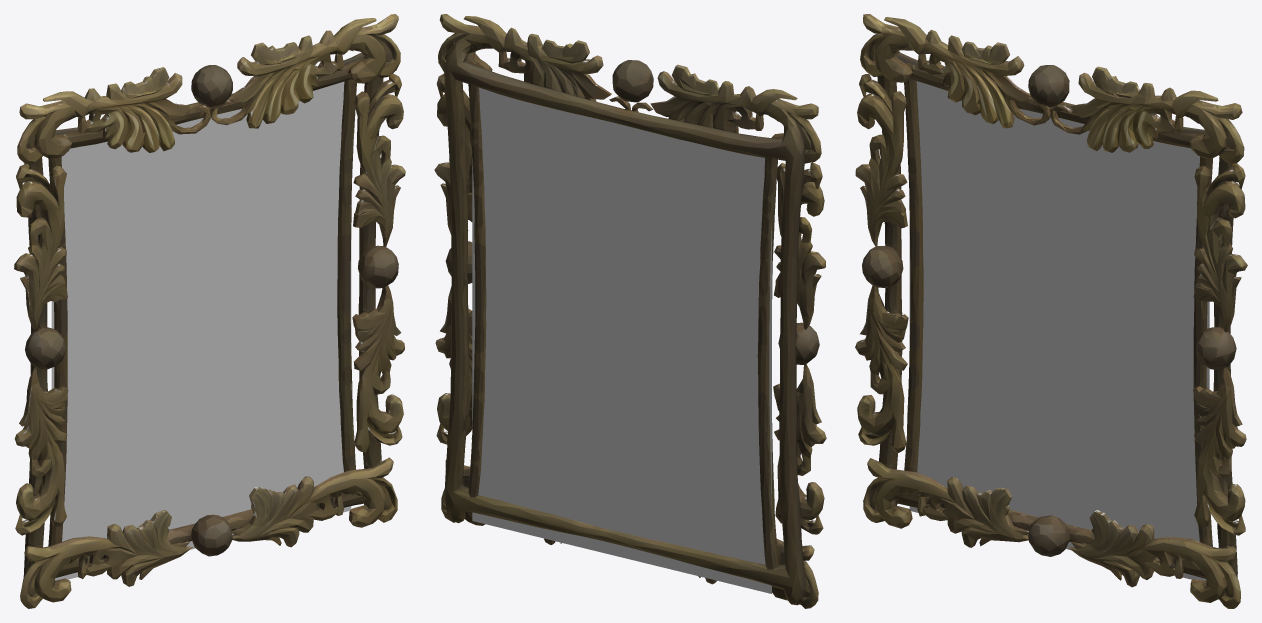
File: mirror01texbaked.obj
3 renders of one model, left to right at view 1: azimuth 30°, elevation 25°; view 2: azimuth 150°, elevation 25°; view 3: azimuth 330°, elevation 25°, orthographic.
Parts seen in each view (by area): view 1: model; view 2: model; view 3: model.
Boxes of the visible parts, <box> form: model: <box>14,14,405,608</box>; model: <box>434,14,826,608</box>; model: <box>855,14,1247,608</box>.
Size of the model in its own units: 1.6 by 2 by 0.1678.
Materials: 2 (1 with a texture image).
